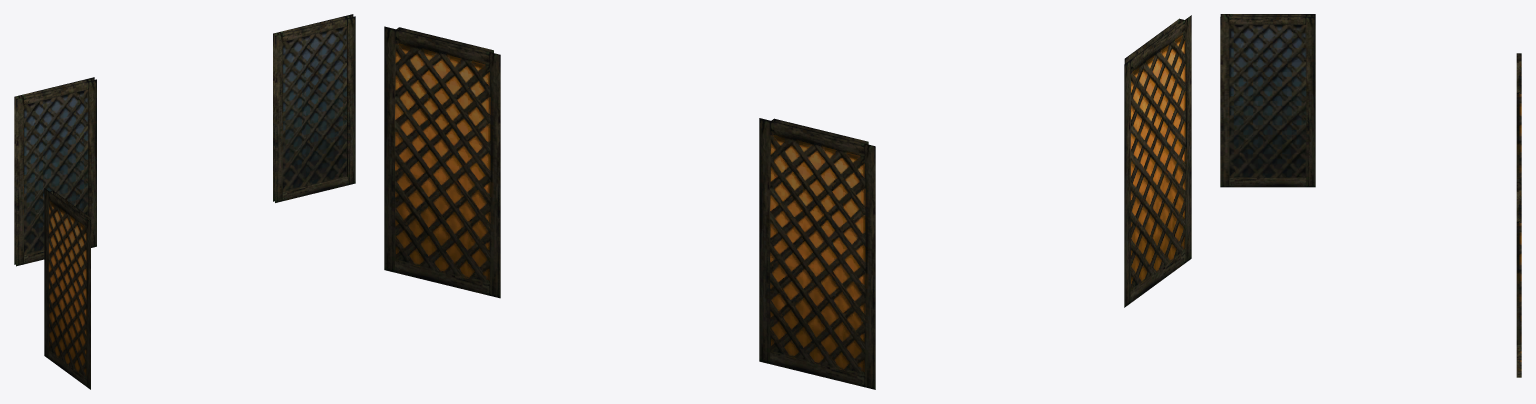
Rendered from LAKETOWN_EXTERIOR_PS_LT_WINDOW_LONG_LOD1_78.fbx.
The picture shows the model from 3 angles, left to right: view 1: azimuth 30°, elevation 25°; view 2: azimuth 150°, elevation 25°; view 3: azimuth 270°, elevation 25°; orthographic projection. The views are drawn at different scales.
Parts seen in each view (by area): view 1: LAKETOWN_EXTERIOR_PS_LT_WINDOW_LONG_LOD1_78; view 2: LAKETOWN_EXTERIOR_PS_LT_WINDOW_LONG_LOD1_78; view 3: LAKETOWN_EXTERIOR_PS_LT_WINDOW_LONG_LOD1_78.
Part boxes in pixels (left/top/right/bottom): LAKETOWN_EXTERIOR_PS_LT_WINDOW_LONG_LOD1_78: left=14, top=14, right=355, bottom=389; LAKETOWN_EXTERIOR_PS_LT_WINDOW_LONG_LOD1_78: left=384, top=15, right=1191, bottom=389; LAKETOWN_EXTERIOR_PS_LT_WINDOW_LONG_LOD1_78: left=1220, top=14, right=1521, bottom=377.
Size of the model in its own units: 37878 by 14850 by 23630.
2 materials, 2 textured.
